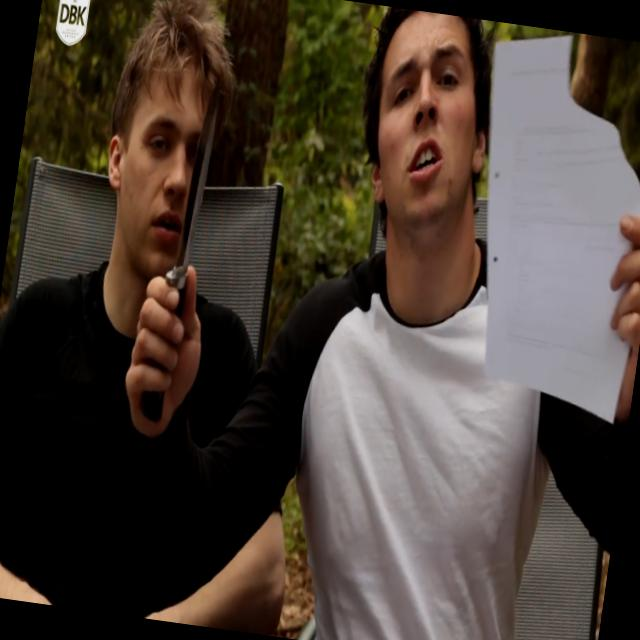knife: (123, 45, 238, 409)
